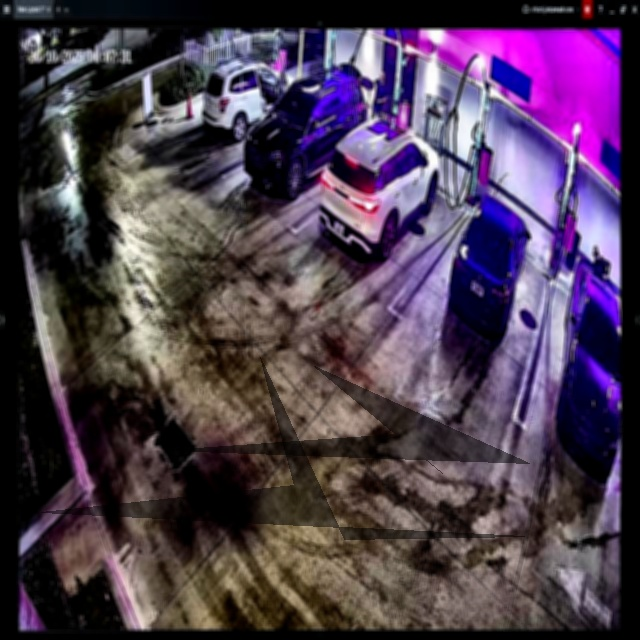Car: (322, 119, 439, 258), (243, 72, 369, 201), (449, 195, 530, 340), (202, 56, 297, 145)
